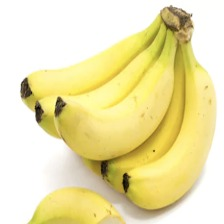banana: (16, 40, 188, 181)
